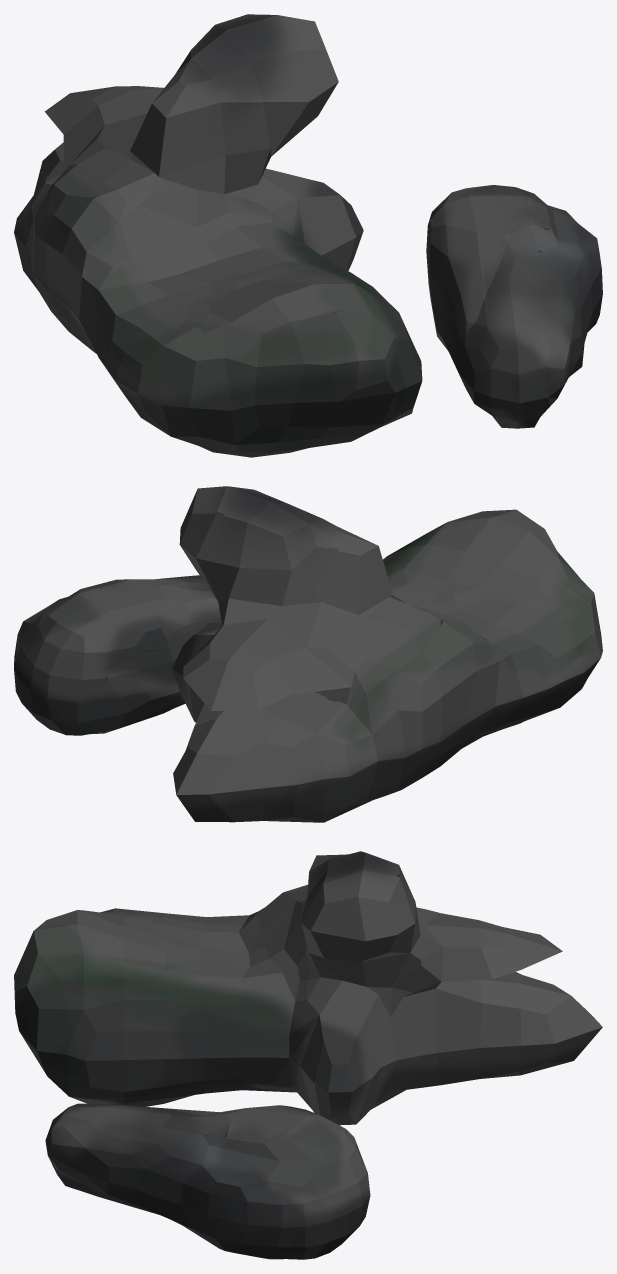
File: rocher.gltf
3 renders of one model, top to bottom at view 1: azimuth 30°, elevation 25°; view 2: azimuth 150°, elevation 25°; view 3: azimuth 270°, elevation 25°, orthographic. The views are drawn at different scales.
Visible parts, largest first — view 1: rocher; view 2: rocher; view 3: rocher.
Part boxes in pixels (box(x1,y1,x2,y2)): rocher: box(14, 14, 602, 457); rocher: box(14, 486, 602, 822); rocher: box(14, 851, 602, 1259).
Size of the model in its own units: 9.62 by 5.72 by 10.24.
Materials: 1 (1 with a texture image).
